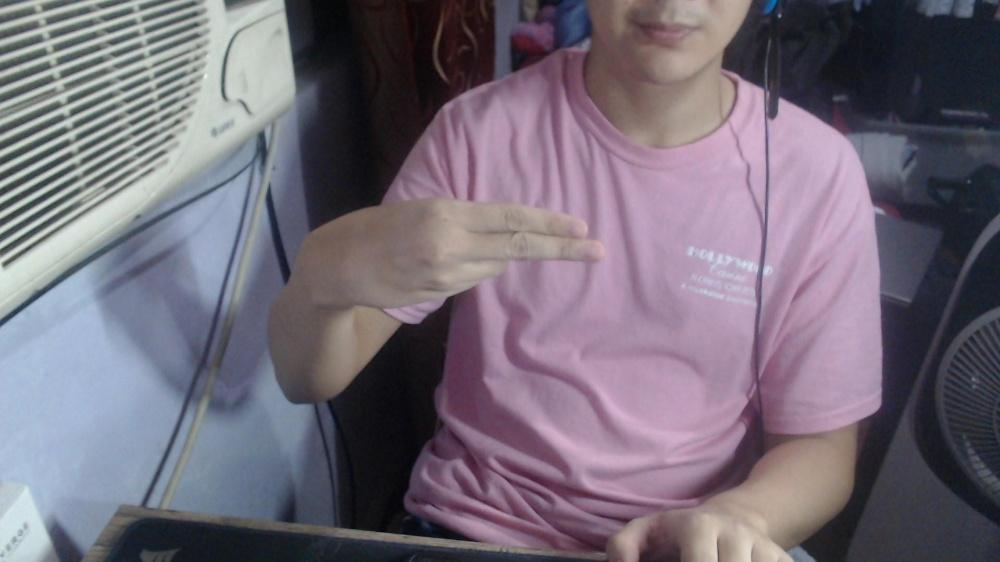h: (294, 195, 605, 312)
